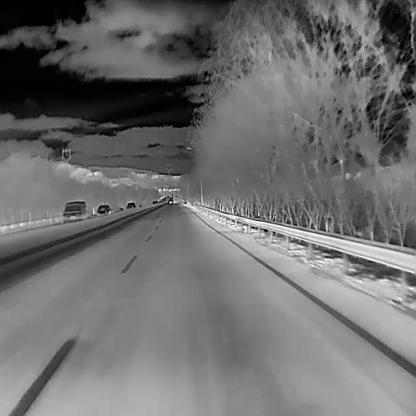car: (62, 199, 86, 223), (96, 202, 113, 217), (125, 200, 136, 210), (172, 196, 178, 203), (151, 199, 157, 203), (169, 200, 173, 204)
